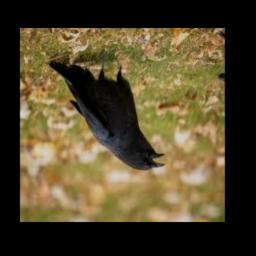Crow: (48, 51, 166, 171)
